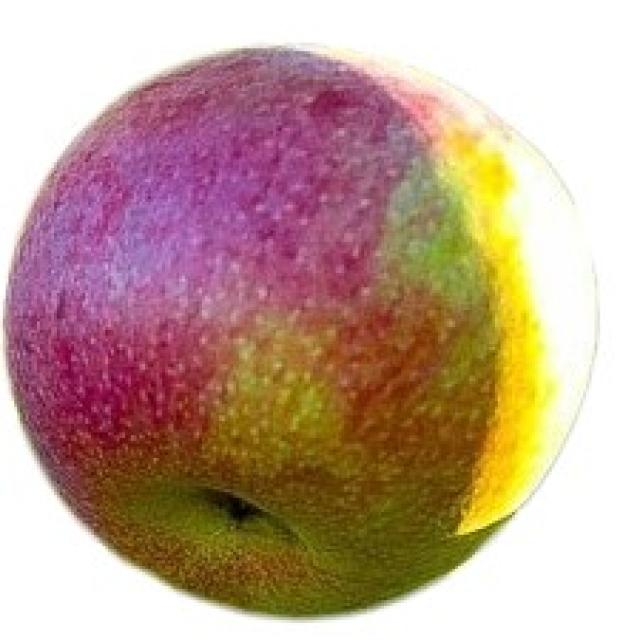75-_ripeness: (3, 47, 600, 617)
